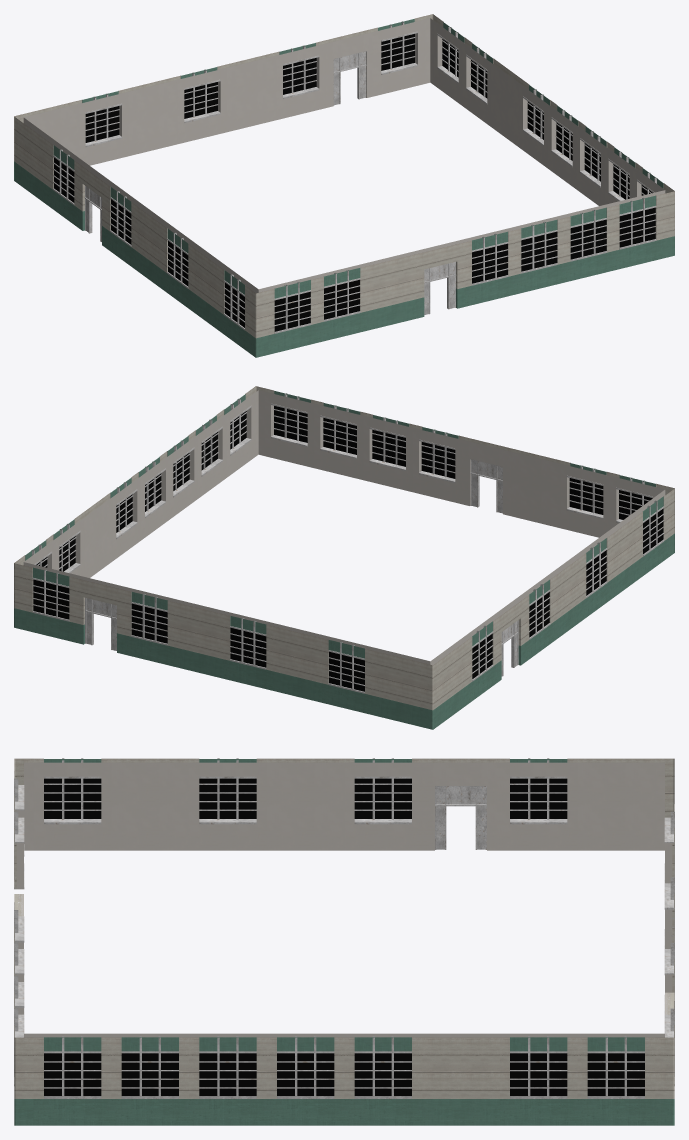
Rendered from BuildingD_Bottom_VarB.fbx.
3 renders of one model, top to bottom at view 1: azimuth 30°, elevation 25°; view 2: azimuth 150°, elevation 25°; view 3: azimuth 270°, elevation 25°, orthographic. The views are drawn at different scales.
Parts seen in each view (by area): view 1: BuildingD_Bottom_VarB; view 2: BuildingD_Bottom_VarB; view 3: BuildingD_Bottom_VarB.
Part boxes in pixels (x1,y1,x2,y2): BuildingD_Bottom_VarB: (14, 14, 674, 357); BuildingD_Bottom_VarB: (14, 386, 674, 729); BuildingD_Bottom_VarB: (14, 758, 674, 1125).
Size of the model in its own units: 3404 by 500 by 3404.
